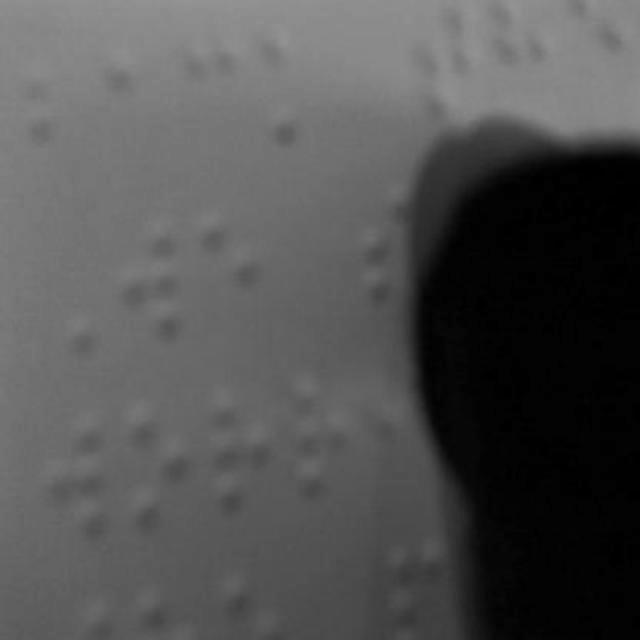braiile: (122, 385, 192, 529), (210, 375, 280, 519), (292, 363, 364, 501), (44, 408, 120, 538), (196, 212, 264, 341), (268, 26, 340, 146), (102, 42, 168, 172), (121, 212, 185, 338), (23, 61, 87, 187), (188, 30, 254, 146)
